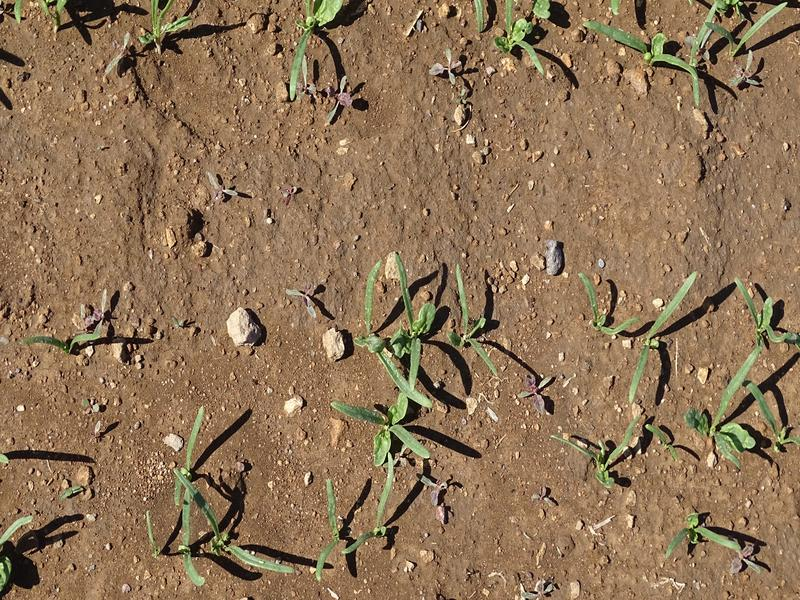Espinaca: (343, 254, 499, 465), (572, 278, 687, 476), (161, 420, 290, 581), (704, 282, 793, 461), (604, 1, 742, 80), (312, 459, 391, 577), (474, 1, 552, 73), (281, 1, 333, 90), (667, 508, 728, 560), (1, 503, 36, 592), (141, 1, 187, 49), (21, 330, 102, 354)
